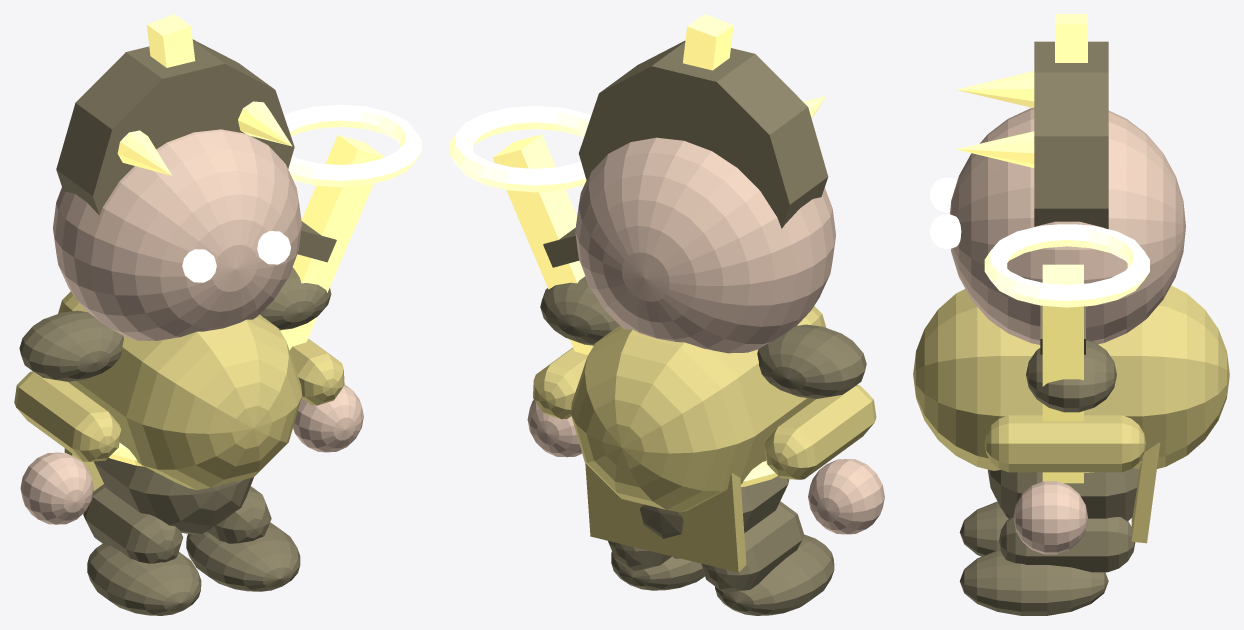
Rendered from guardian-thunder-sd-toon.glb.
3 views of the same model, side by side, from view 1: azimuth 30°, elevation 25°; view 2: azimuth 150°, elevation 25°; view 3: azimuth 270°, elevation 25° (orthographic). The views are drawn at different scales.
Parts seen in each view (by area): view 1: head, body, helmet, signature, pelvis, weapon, armL, footL, shoulderL, footR, legL, handL (+10 smaller); view 2: head, body, helmet, cloth, signature, armL, shoulderL, weapon, footL, handL, legL, shoulderR (+7 smaller); view 3: body, head, helmet, armR, signature, footR, weapon, handR, legR, pelvis, shoulderR, footL (+6 smaller).
Boxes of the visible parts, x1,y1,x2,y2 form: head: (53, 129, 301, 340); body: (58, 291, 302, 490); helmet: (56, 39, 294, 215); signature: (284, 104, 421, 187); pelvis: (94, 457, 253, 534); weapon: (280, 135, 384, 350); armL: (14, 371, 121, 461); footL: (87, 543, 201, 615); shoulderL: (19, 310, 123, 381); footR: (186, 522, 300, 591); legL: (83, 484, 183, 563); handL: (20, 452, 93, 524); head: (575, 137, 835, 353); body: (570, 306, 826, 512); helmet: (578, 41, 828, 228); cloth: (585, 463, 746, 572); signature: (450, 105, 590, 192); armL: (764, 385, 876, 479); shoulderL: (757, 324, 866, 398); weapon: (492, 134, 593, 355); footL: (715, 534, 834, 615); handL: (808, 459, 884, 534); legL: (701, 501, 804, 592); shoulderR: (540, 276, 619, 345); body: (913, 285, 1229, 470); head: (950, 107, 1185, 344); helmet: (1034, 41, 1108, 229); armR: (984, 415, 1145, 472); signature: (984, 224, 1149, 307); footR: (959, 550, 1108, 615); weapon: (1042, 264, 1083, 483); handR: (1013, 481, 1087, 554); legR: (999, 516, 1135, 572); pelvis: (988, 468, 1138, 521); shoulderR: (1026, 340, 1116, 412); footL: (959, 501, 1008, 556).
Size of the model in its own units: 2.22 by 3 by 1.53.
